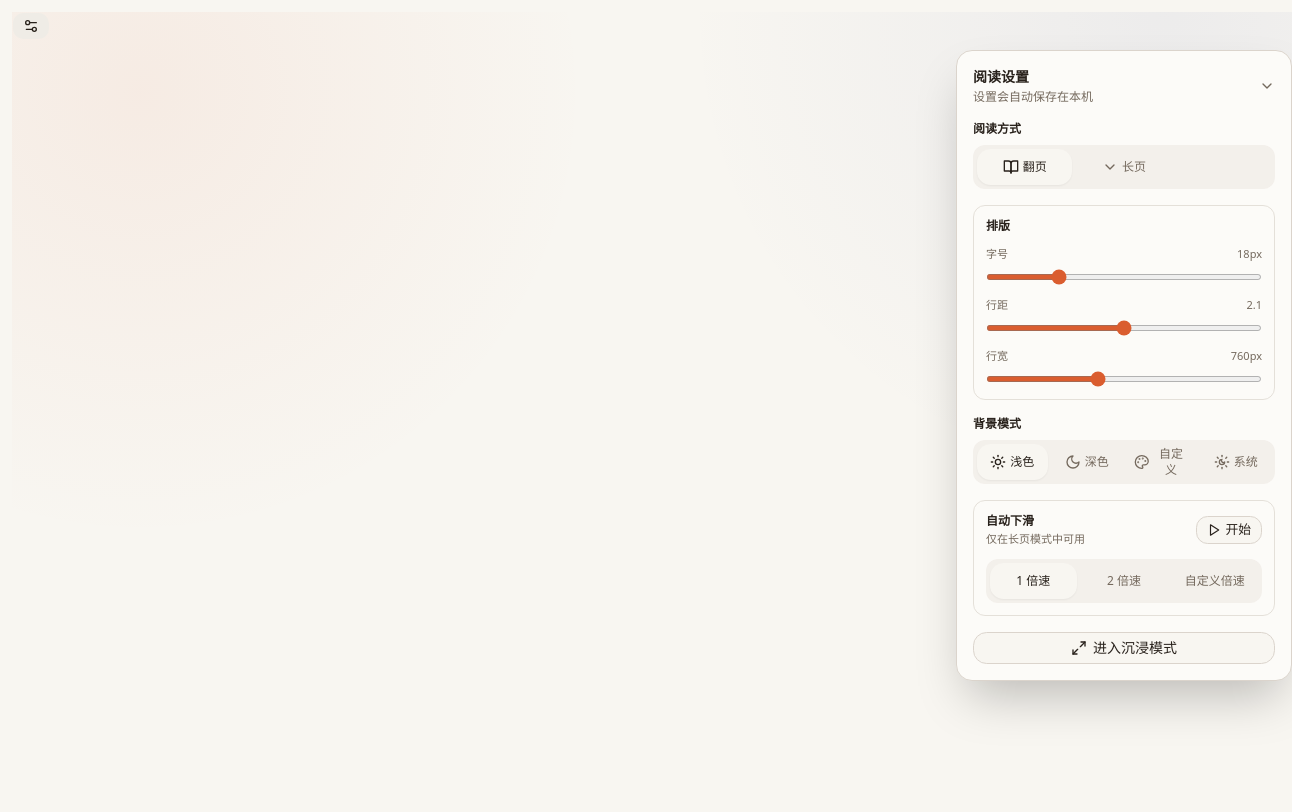
Test: reader preferences › closes when clicking outside the settings panel
Expected: the element labelled "阅读设置" is shown, [956,50,1291,681]
Press the mouse on the element that starts with "阅读设置" at (652, 412), box [12,12,1291,811]
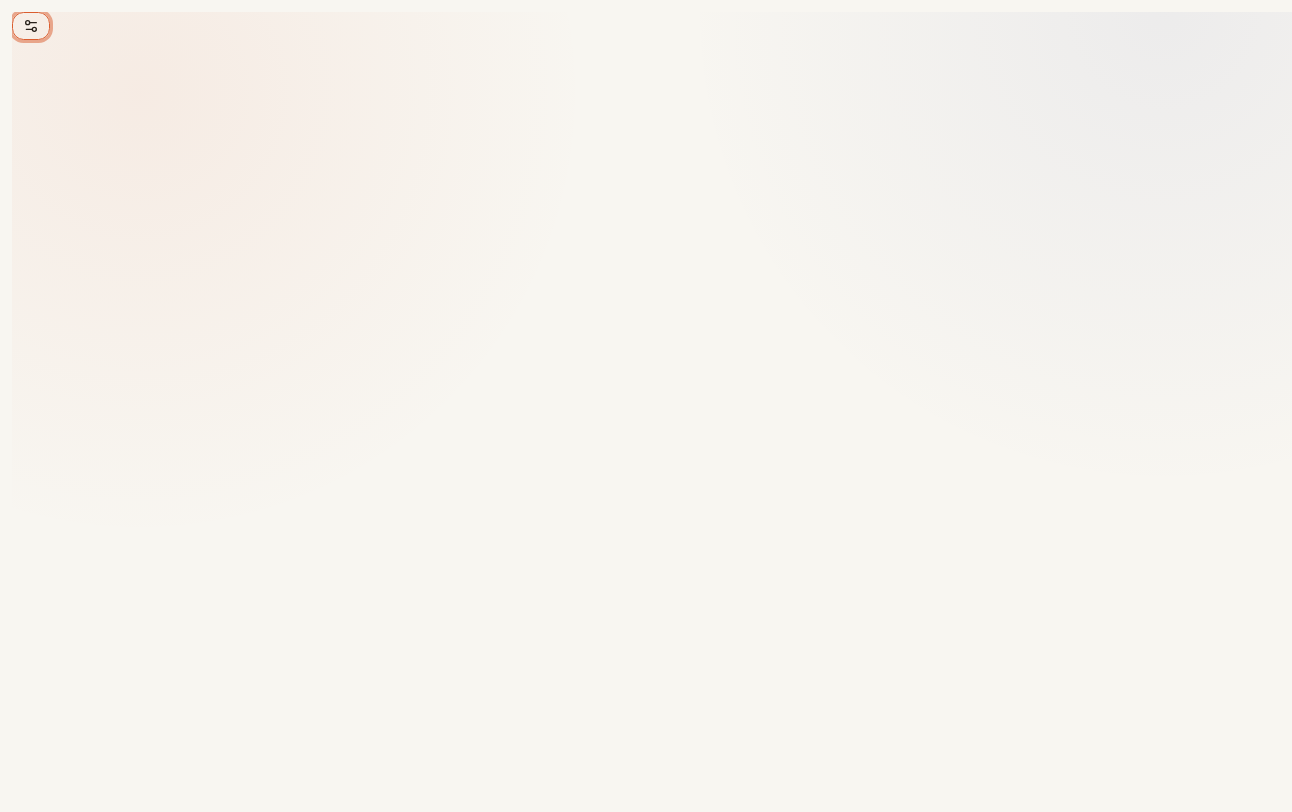
Expected: the heading labelled "阅读设置" is gone
